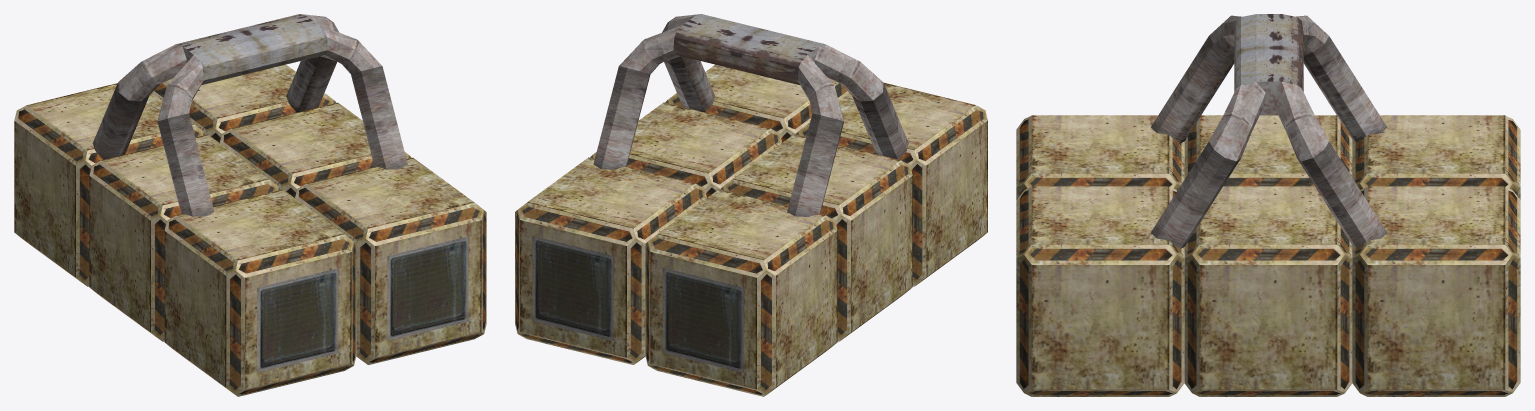
The model's file is art_box_3.obj.
The picture shows the model from 3 angles, left to right: view 1: azimuth 30°, elevation 25°; view 2: azimuth 150°, elevation 25°; view 3: azimuth 270°, elevation 25°; orthographic projection. The views are drawn at different scales.
Visible parts, largest first — view 1: Cube, Cylinder; view 2: Cube, Cylinder; view 3: Cube, Cylinder.
Boxes of the visible parts, x1=… form: Cube: x1=14, y1=64, x2=486, y2=396; Cylinder: x1=92, y1=14, x2=407, y2=216; Cube: x1=515, y1=64, x2=987, y2=396; Cylinder: x1=593, y1=14, x2=908, y2=216; Cube: x1=1016, y1=115, x2=1520, y2=396; Cylinder: x1=1151, y1=14, x2=1387, y2=248.
Bounding box in the file's own units: 4.4 × 4.11 × 6.59.
